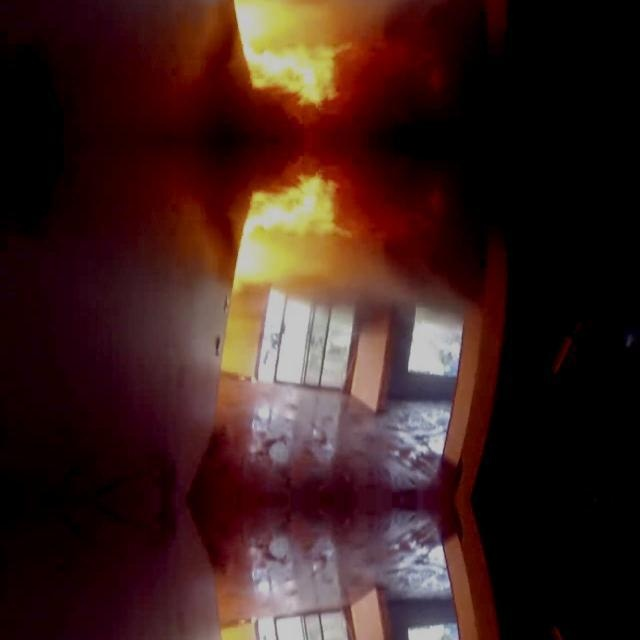fire: (177, 0, 394, 323)
